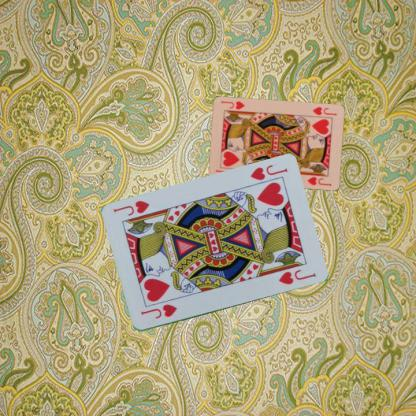Jh: (247, 162, 289, 182), (138, 302, 178, 320), (310, 104, 337, 117)
